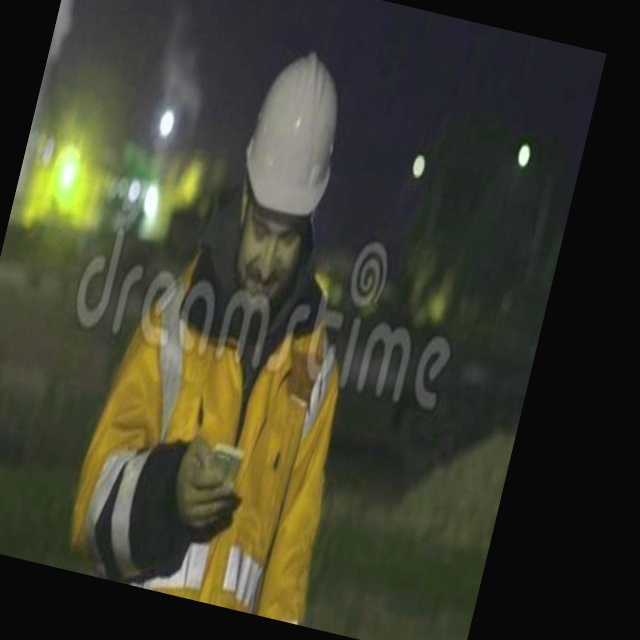Con_Casco: (216, 45, 357, 302)
